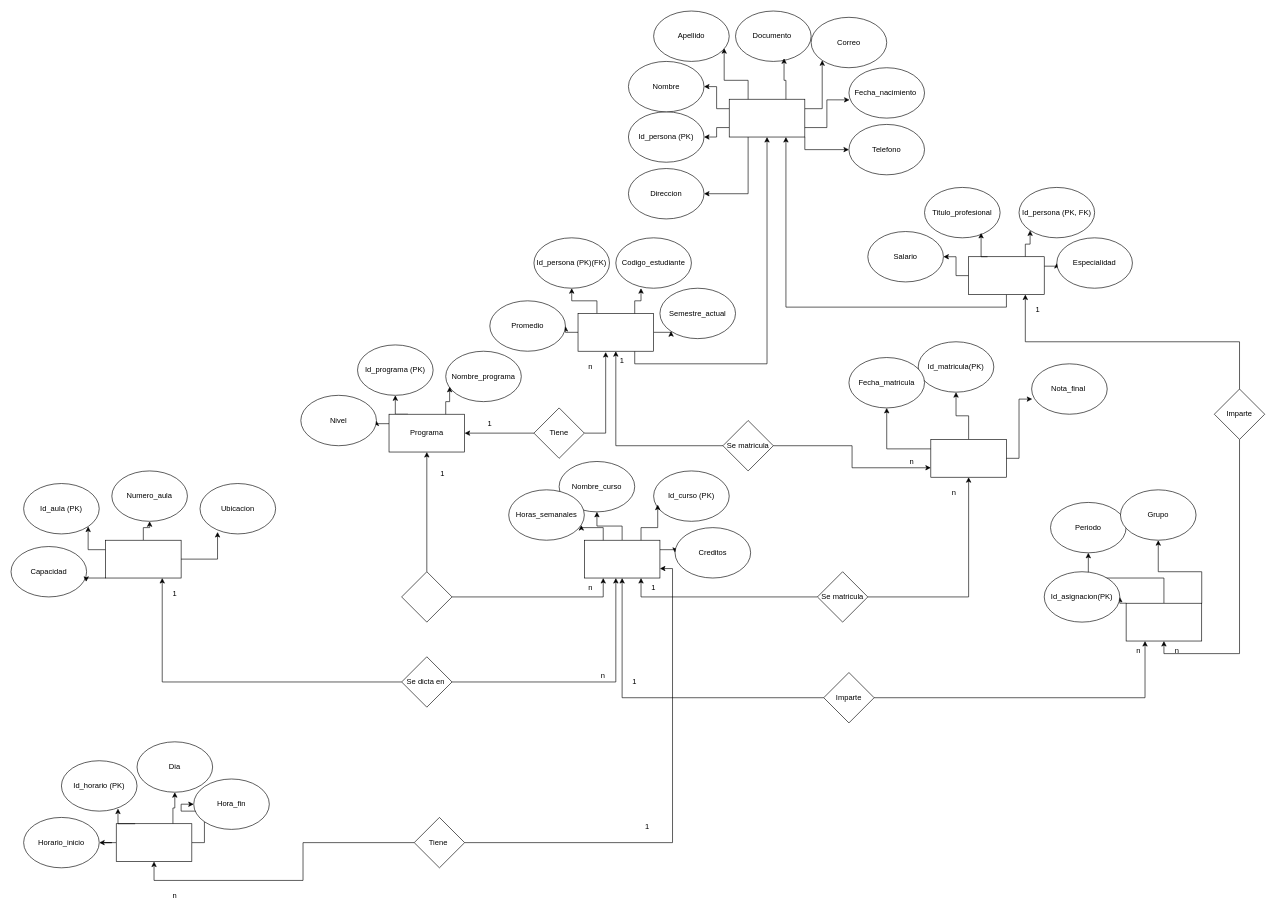
The diagram is 1276 pixels wide and 917 high, and some of its shapes have lost their labels. The centre of each missing label's shape, as x and y in pixels:
Asignacion: the point at 1163,622
Aula: the point at 143,559
Curso: the point at 622,559
Estudiante: the point at 615,332
Horario: the point at 154,842
Incluye: the point at 426,596
Instructor: the point at 1006,275
Matricula: the point at 968,458
Persona: the point at 767,118
